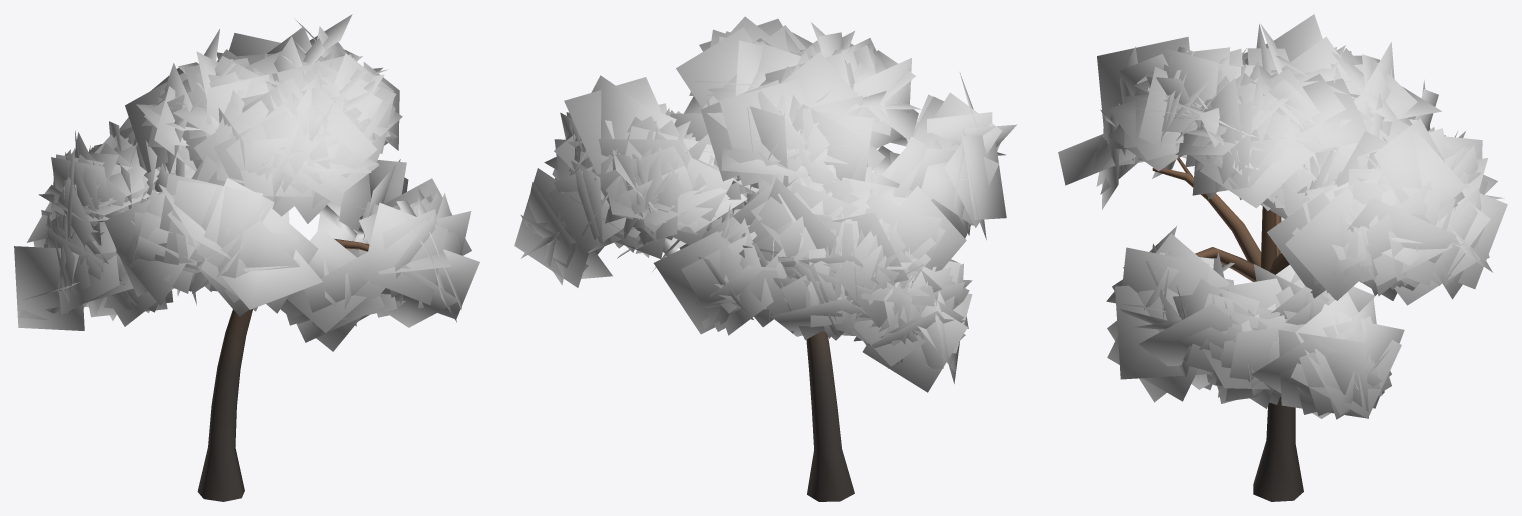
3 renders of one model, left to right at view 1: azimuth 30°, elevation 25°; view 2: azimuth 150°, elevation 25°; view 3: azimuth 270°, elevation 25°, orthographic. The views are drawn at different scales.
Parts seen in each view (by area): view 1: crown, trunk; view 2: crown, trunk; view 3: crown, trunk.
Boxes of the visible parts, <box> form: crown: <box>14,14,479,351</box>; trunk: <box>197,238,369,501</box>; crown: <box>514,16,1016,392</box>; trunk: <box>806,330,854,501</box>; crown: <box>1058,14,1507,419</box>; trunk: <box>1152,158,1303,501</box>.
Bounding box in the file's own units: 11.99 × 11.3 × 9.72.
